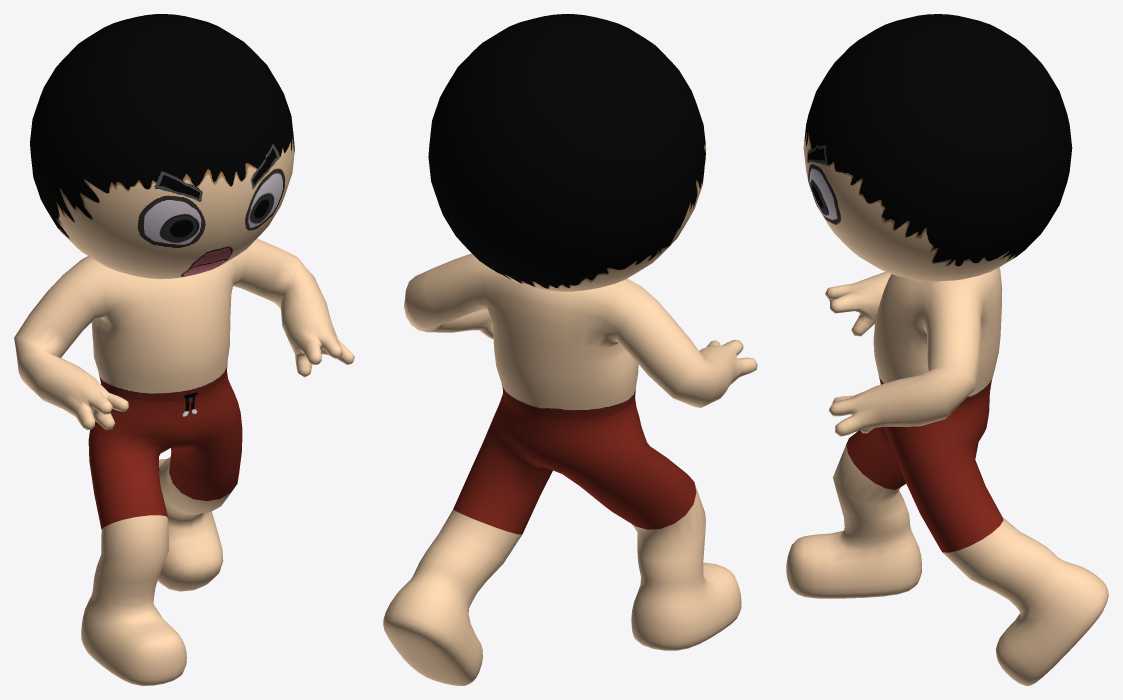
File: Nadando.fbx
3 renders of one model, left to right at view 1: azimuth 30°, elevation 25°; view 2: azimuth 150°, elevation 25°; view 3: azimuth 270°, elevation 25°, orthographic. The views are drawn at different scales.
Visible parts, largest first — view 1: Cube.002; view 2: Cube.002; view 3: Cube.002.
Boxes of the visible parts, x1,y1,x2,y2 form: Cube.002: [14, 14, 354, 685]; Cube.002: [383, 14, 757, 685]; Cube.002: [786, 14, 1108, 685].
Size of the model in its own units: 1836 by 3634 by 1714.
Materials: 2 (2 with a texture image).
